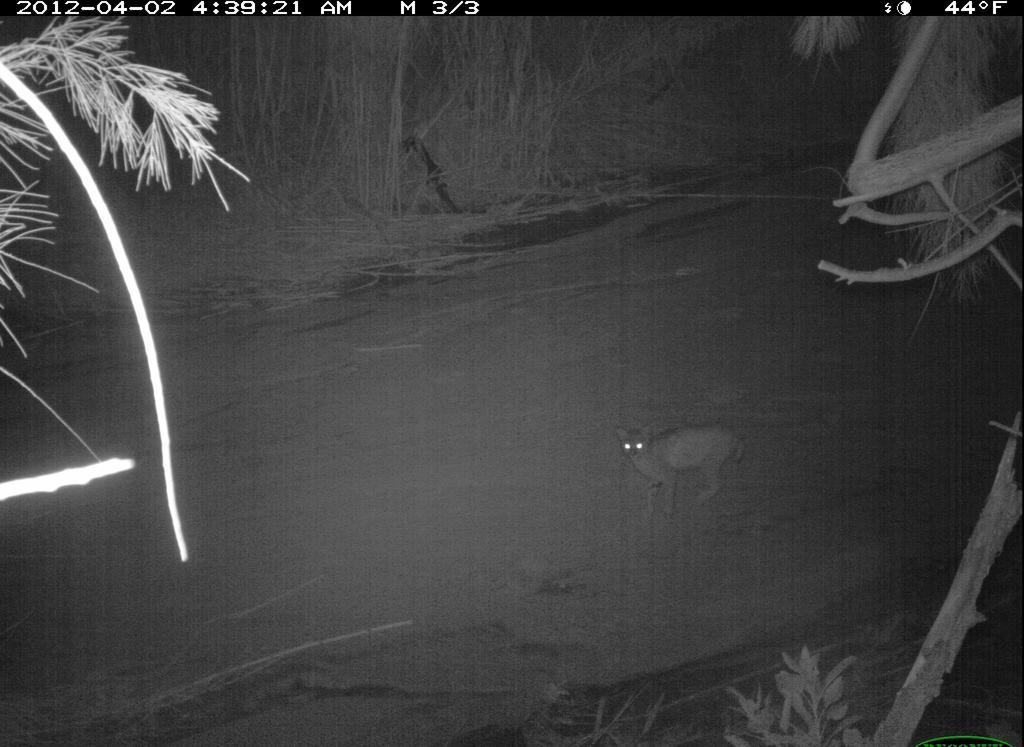bobcat: (606, 415, 767, 529)
